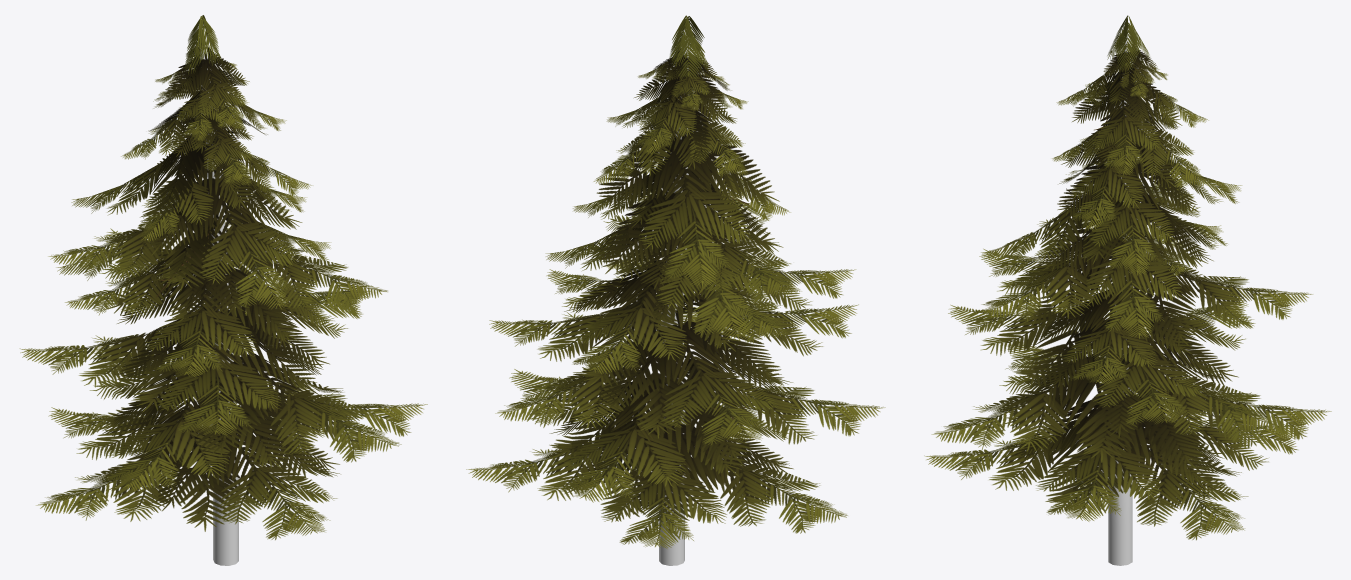
File: sapin_feuilles.glb
3 renders of one model, left to right at view 1: azimuth 30°, elevation 25°; view 2: azimuth 150°, elevation 25°; view 3: azimuth 270°, elevation 25°, orthographic. The views are drawn at different scales.
Visible parts, largest first — view 1: Leaves/001, Trank.001; view 2: Leaves/001, Trank.001; view 3: Leaves/001, Trank.001.
Boxes of the visible parts, x1,y1,x2,y2 form: Leaves/001: (19, 15, 427, 540); Trank.001: (199, 28, 238, 565); Leaves/001: (466, 15, 885, 548); Trank.001: (659, 29, 690, 565); Leaves/001: (924, 15, 1331, 540); Trank.001: (1108, 28, 1134, 565).
Bounding box in the file's own units: 217 × 308 × 217.
2 materials, 1 textured.
